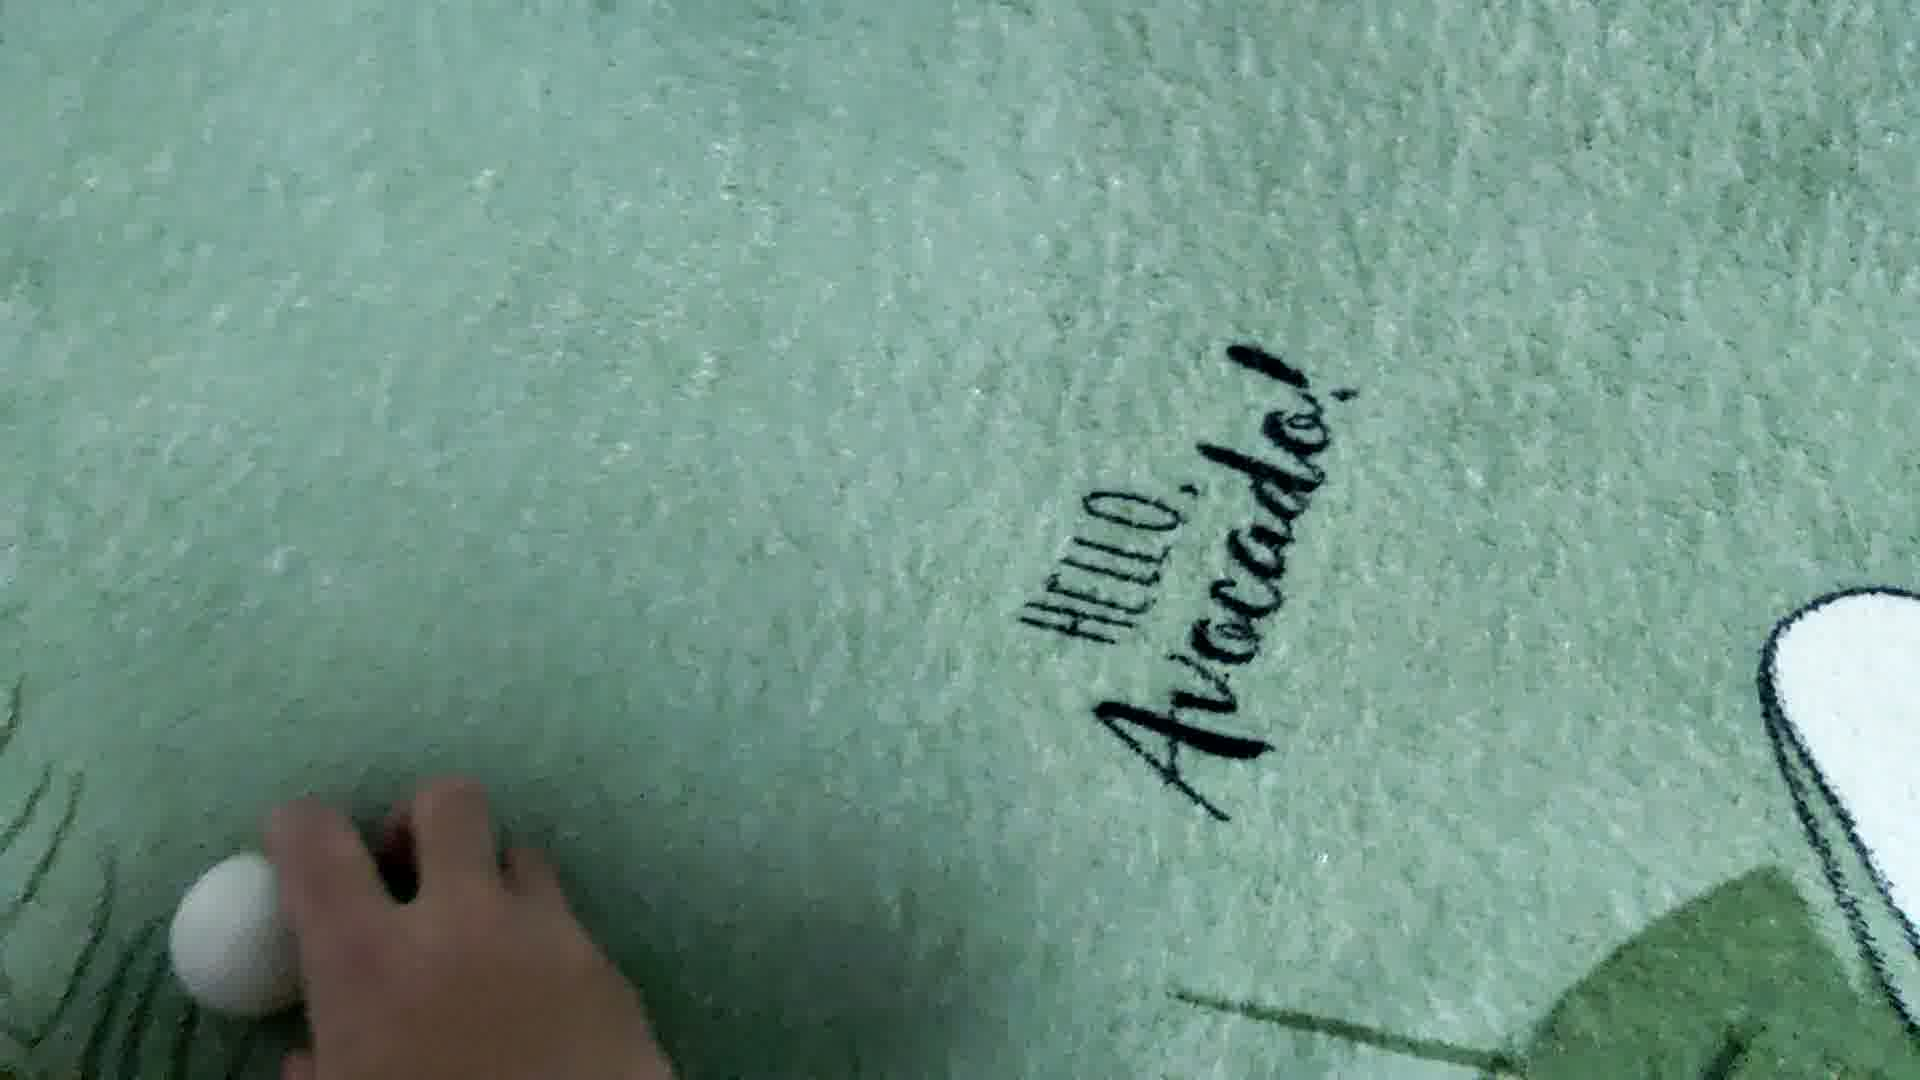Ball: (164, 845, 343, 1015)
